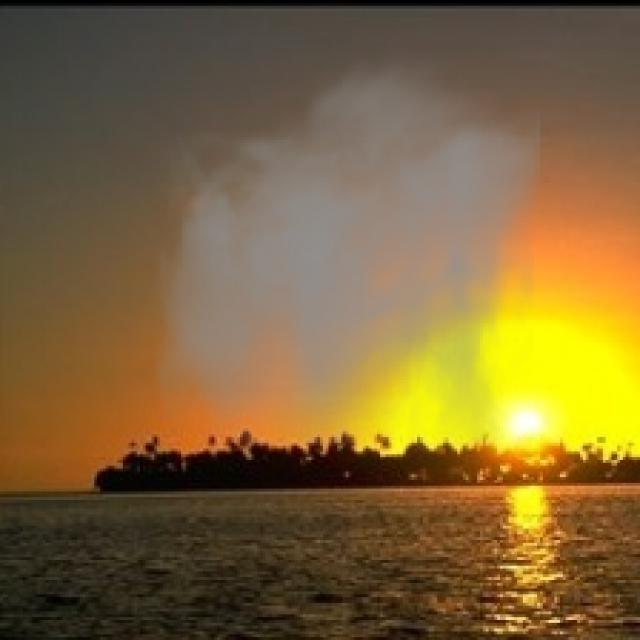smoke: (154, 46, 540, 446)
